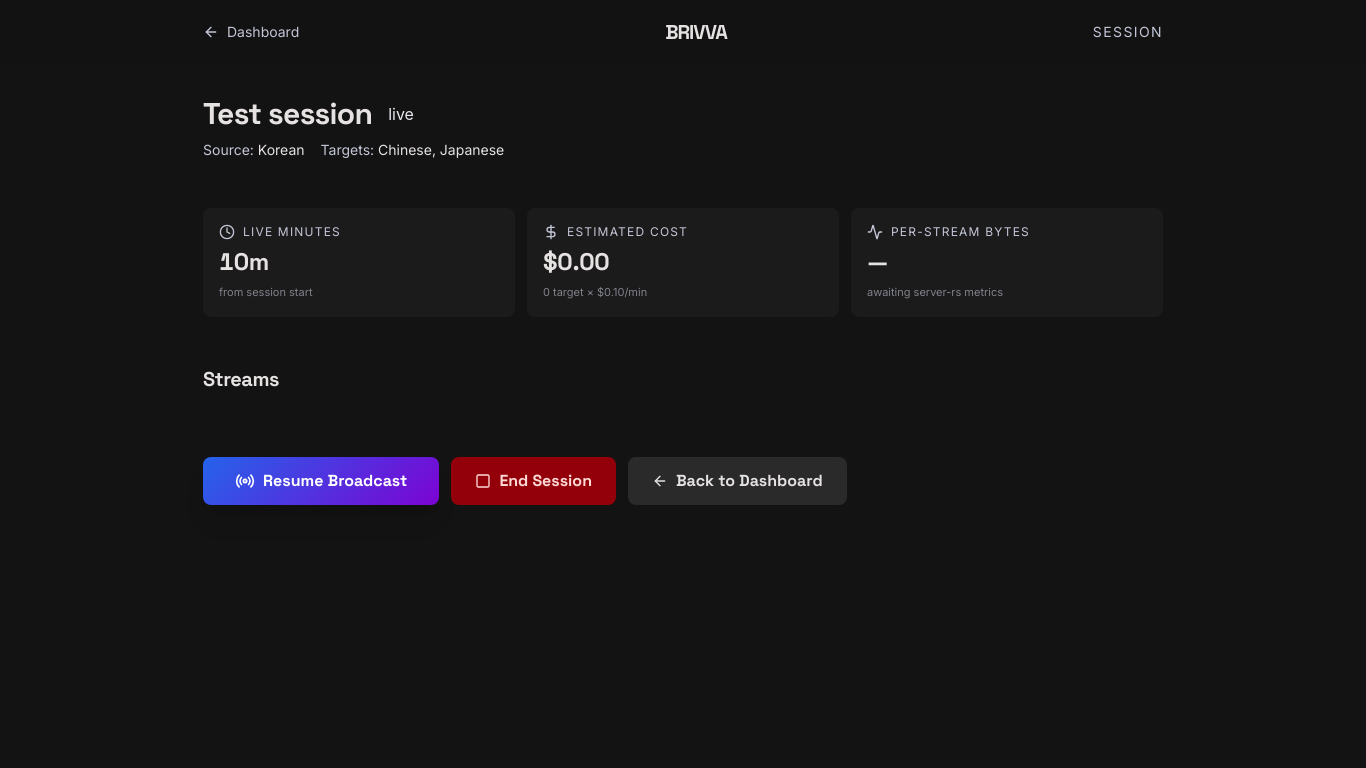
SessionPage › End Session never shows 'Session not found' even if the post-End GET returns null (regression)
Check: the heading "Test session" is shown, box left=203, top=96, right=372, bottom=132
Click the button "End Session" at (534, 480), box left=451, top=456, right=616, bottom=504
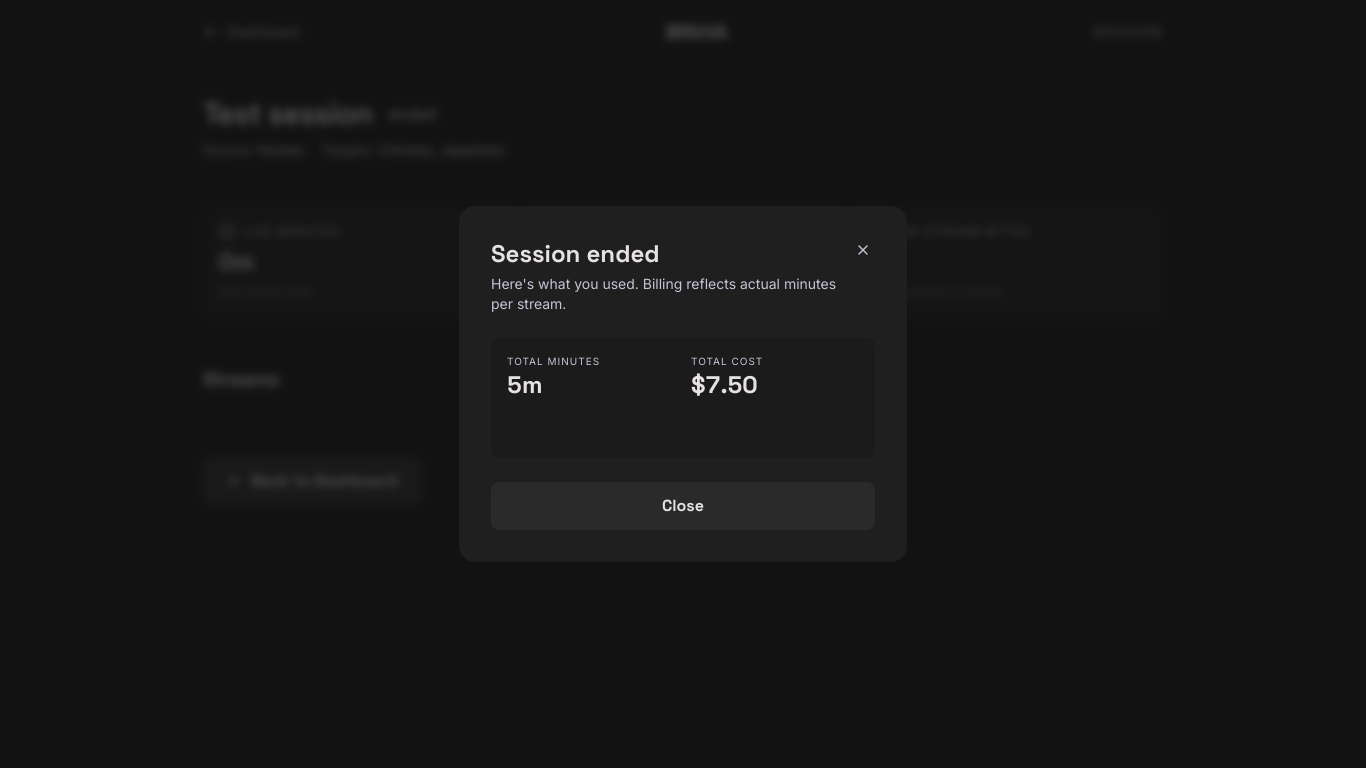
Check: the heading "Session ended" is shown, box left=491, top=238, right=660, bottom=269
